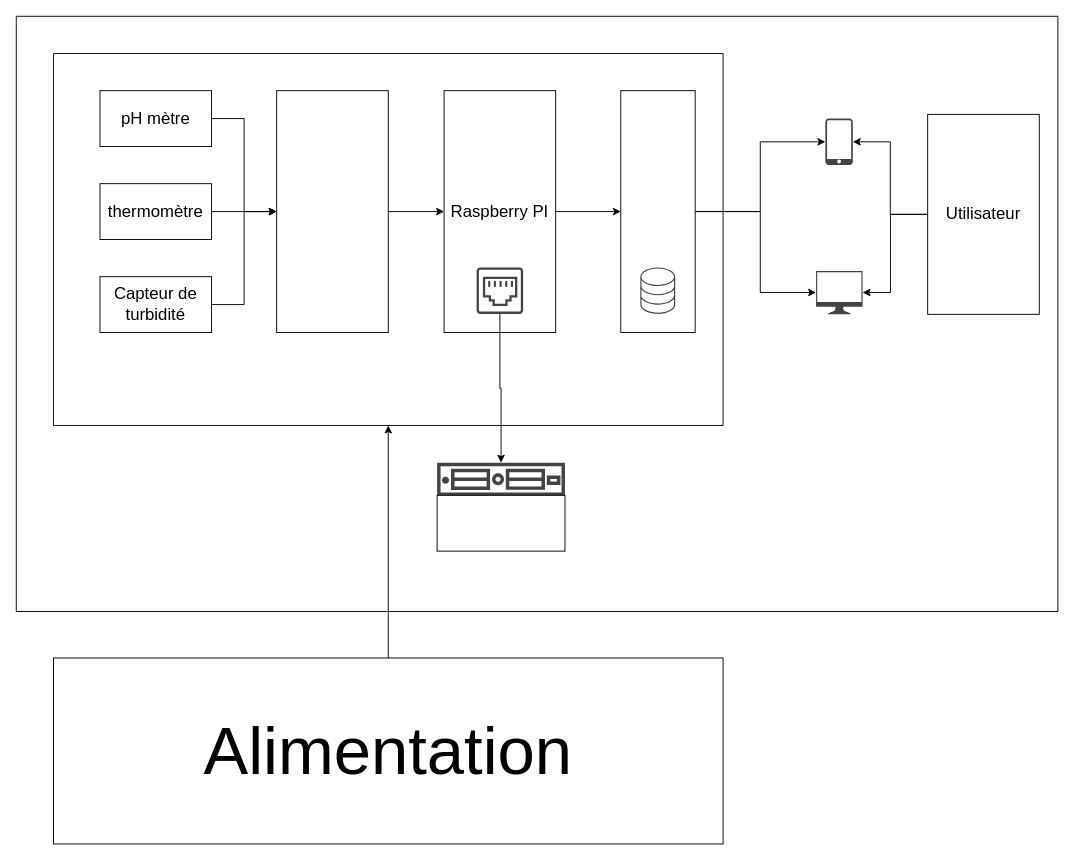
Image size: 1075x860. Some labels were removed from this diagram. The shapes that lost their labels are listed below. From the top down, each one's box as (x1, y1, x2, y2) in pixels, then its label:
(276, 90, 388, 332): Données provenant des capteurs
(620, 90, 695, 332): Site internet local
(436, 494, 565, 551): SERVEUR
